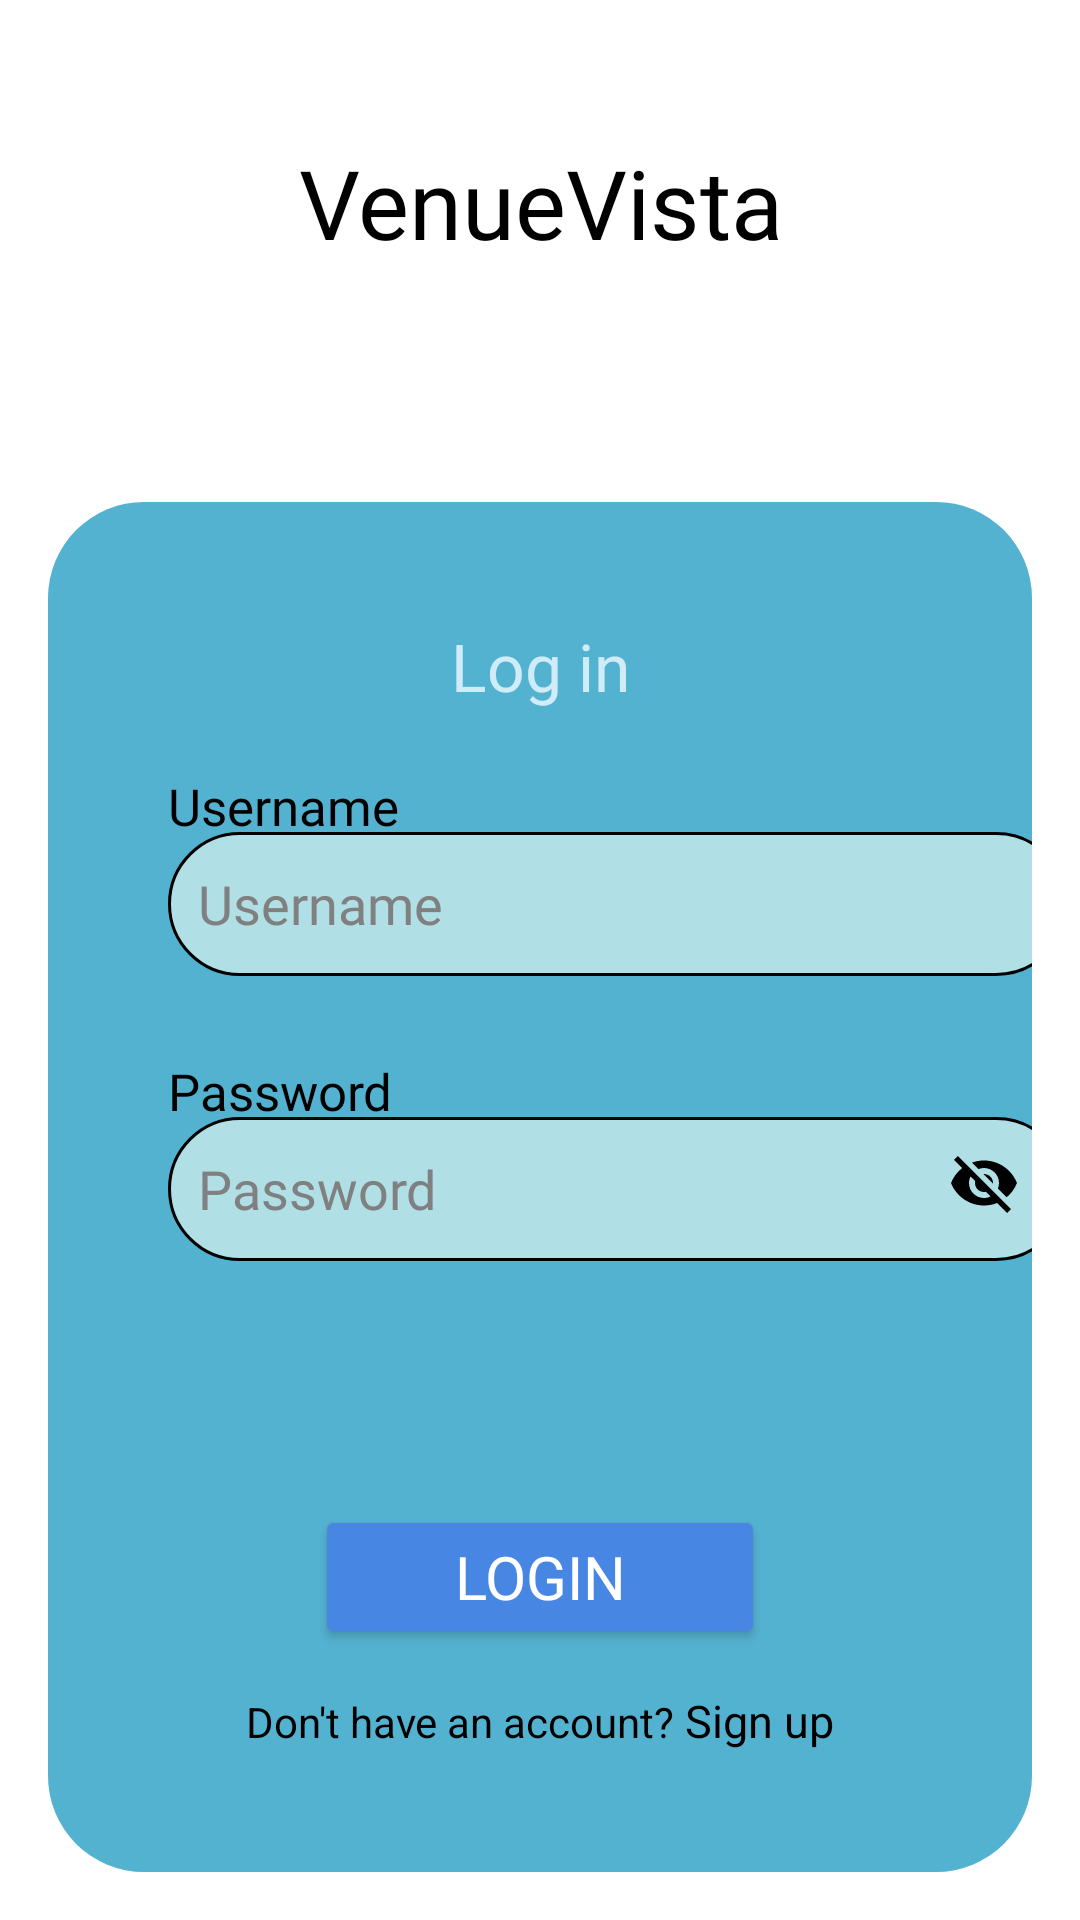

Locate icon controls on the screen. Image size 1080px×1920px, boxes as (x1, y1, x2, y2).
visibility off: (951, 1156, 1017, 1213)
